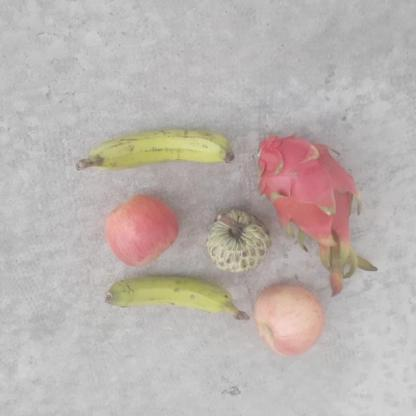annona: (203, 208, 271, 271)
apple: (103, 193, 181, 265), (248, 285, 323, 357)
banana: (92, 126, 234, 178), (100, 271, 235, 319)
pitaya: (253, 129, 358, 240)
